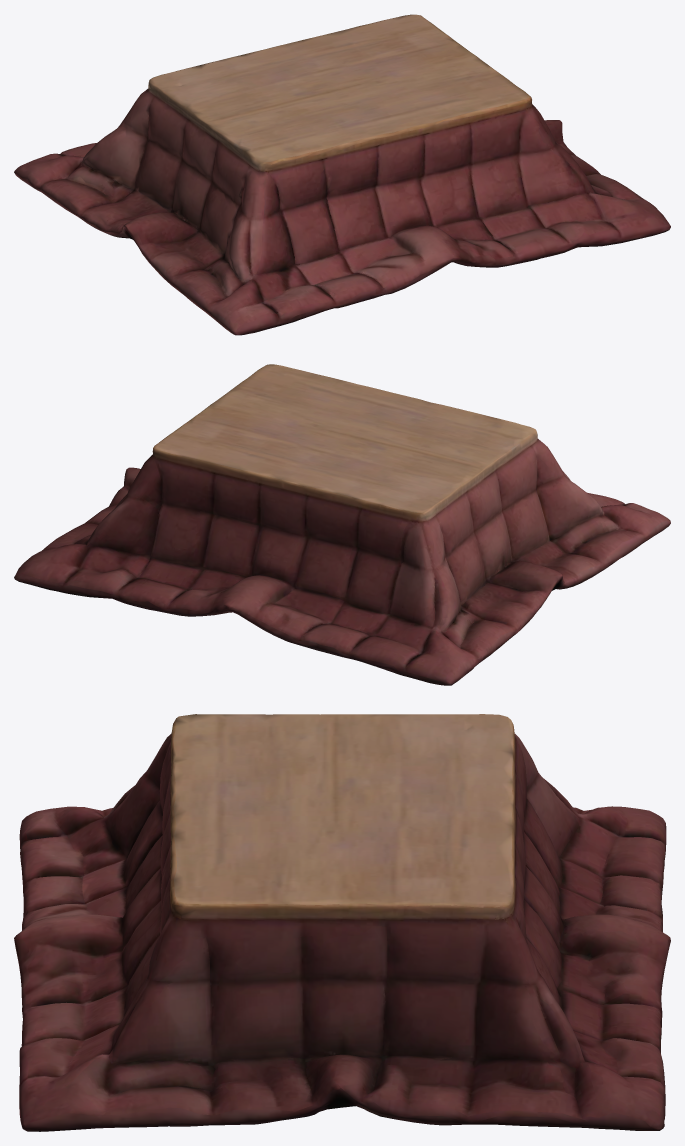
3 renders of one model, top to bottom at view 1: azimuth 30°, elevation 25°; view 2: azimuth 150°, elevation 25°; view 3: azimuth 270°, elevation 25°, orthographic. The views are drawn at different scales.
Parts seen in each view (by area): view 1: Mesh_0; view 2: Mesh_0; view 3: Mesh_0.
Boxes of the visible parts, <box> form: Mesh_0: <box>14,14,670,335</box>; Mesh_0: <box>14,364,670,685</box>; Mesh_0: <box>14,714,670,1131</box>.
Bounding box in the file's own units: 1.51 × 0.39 × 1.35.
1 material, 1 textured.
